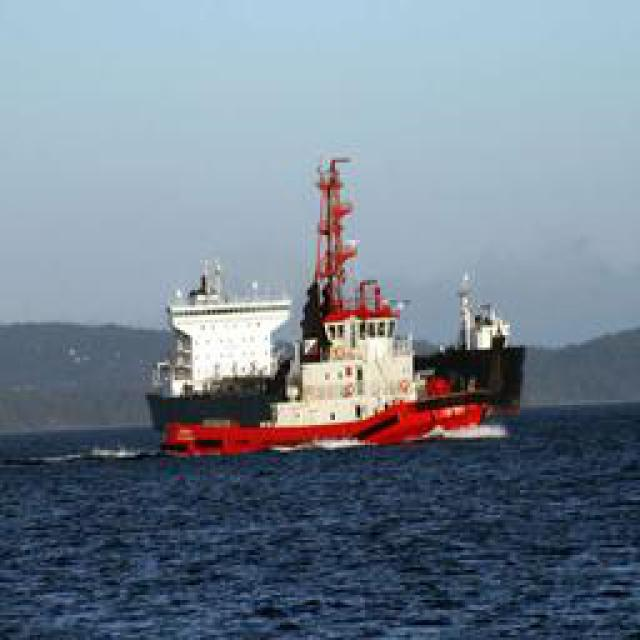Ship: (143, 151, 521, 459)
